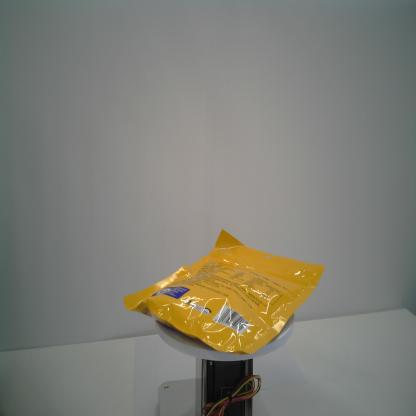Dried Fruit: (122, 226, 329, 357)
